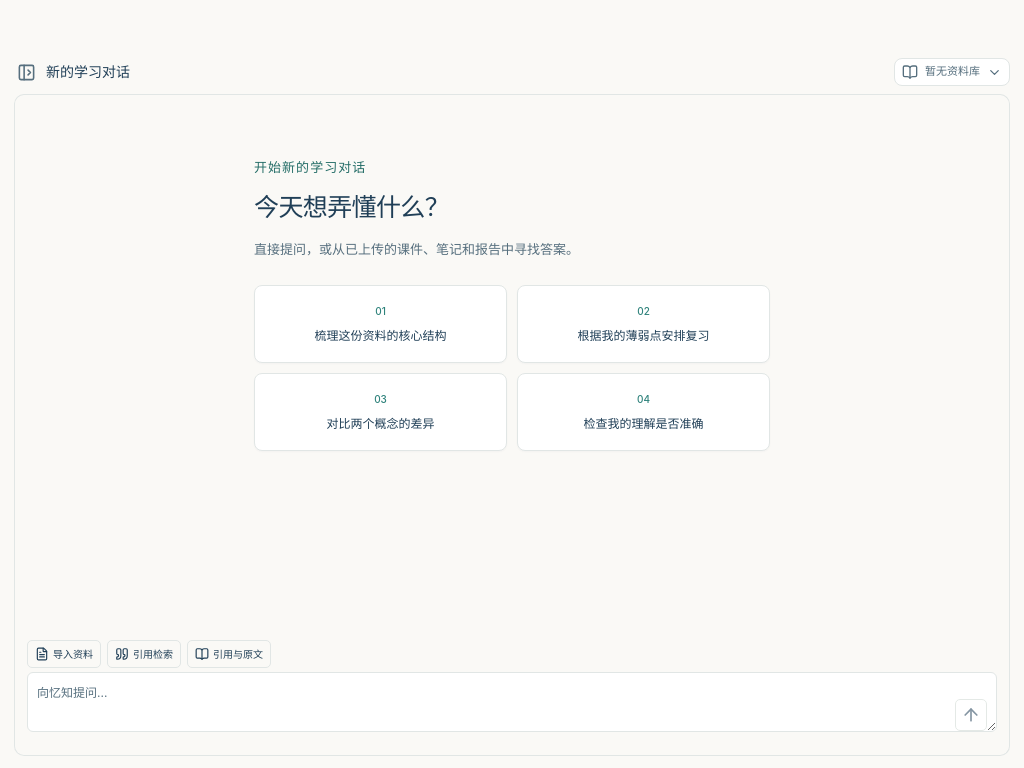
Test: failed answer has a terminal state and retry (partial=false)
This screenshot has width=1024, height=768.
Type "测试问题" into the text box labelled "向忆知提问...".
click(512, 702); type("测试问题")  # box [27,672,997,732]
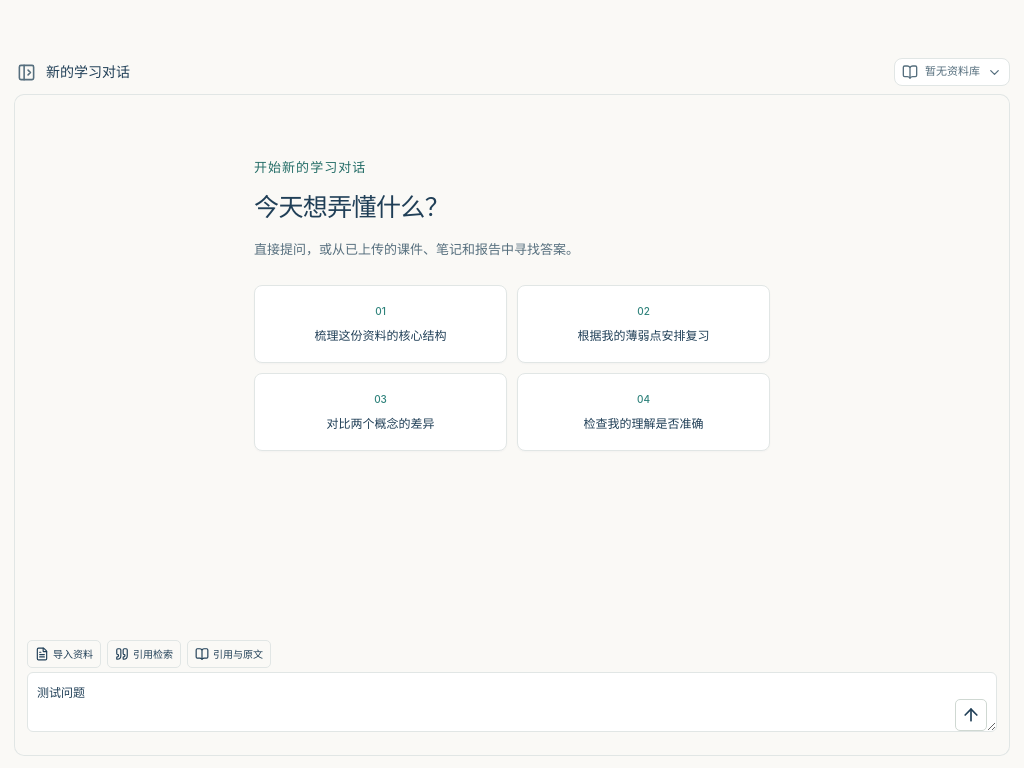
Click the button named "发送".
click(971, 715)  # box [955,699,987,731]
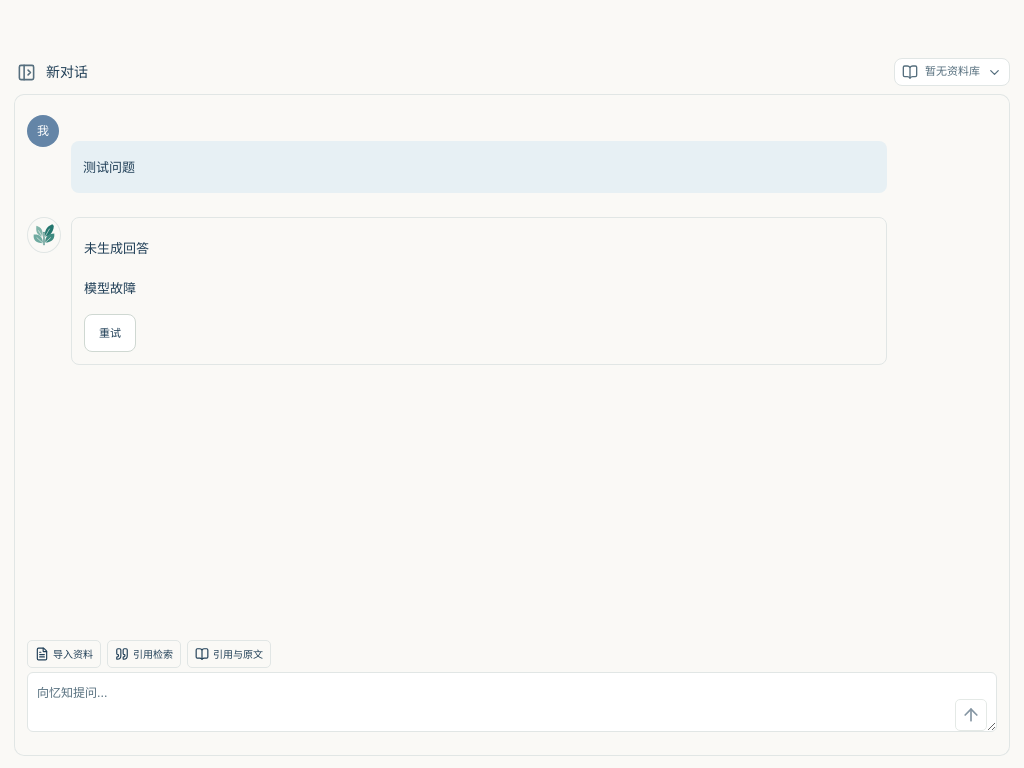
Expected: the button "重试" is enabled, [84,314,136,352]
Expected: the message reads "模型故障", [84,280,136,296]
